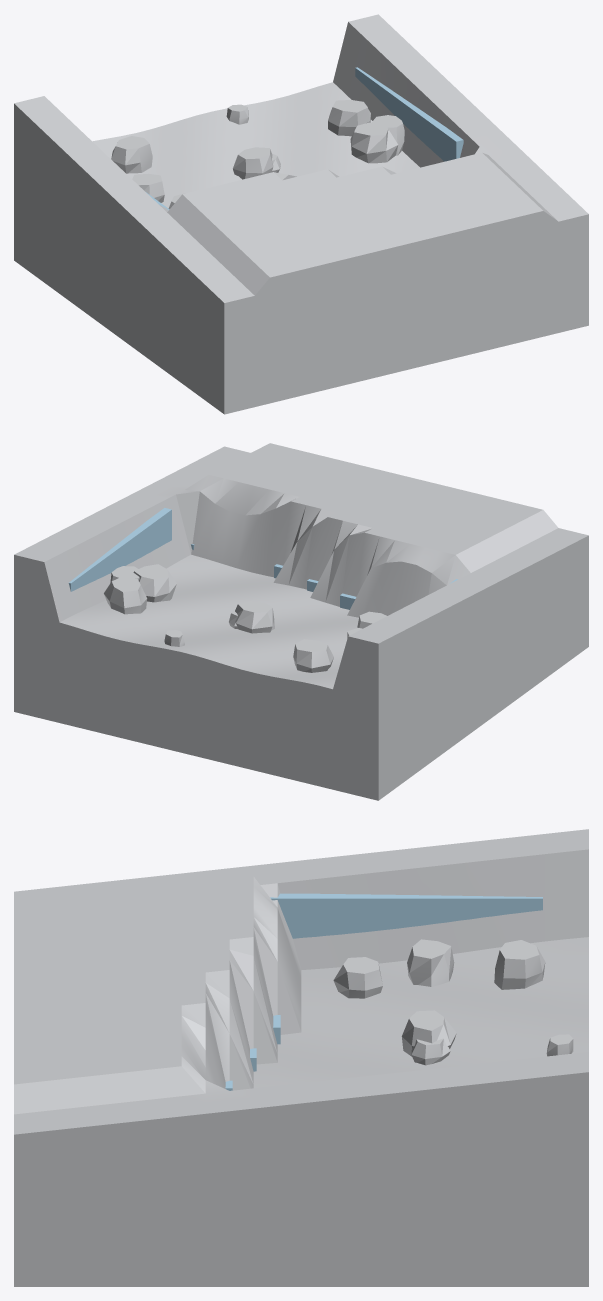
Rendered from backcountry-snowboarding-and-avalanche-safety-crown-fr-2479a130__18951.glb.
3 renders of one model, top to bottom at view 1: azimuth 30°, elevation 25°; view 2: azimuth 150°, elevation 25°; view 3: azimuth 270°, elevation 25°, orthographic. The views are drawn at different scales.
Parts seen in each view (by area): view 1: crown-fracture-face; view 2: crown-fracture-face; view 3: crown-fracture-face.
Boxes of the visible parts, box(x1,y1,x2,y2) form: crown-fracture-face: box(14, 14, 588, 414); crown-fracture-face: box(14, 443, 588, 800); crown-fracture-face: box(14, 829, 588, 1286).
Bounding box in the file's own units: 5 × 2.06 × 5.
